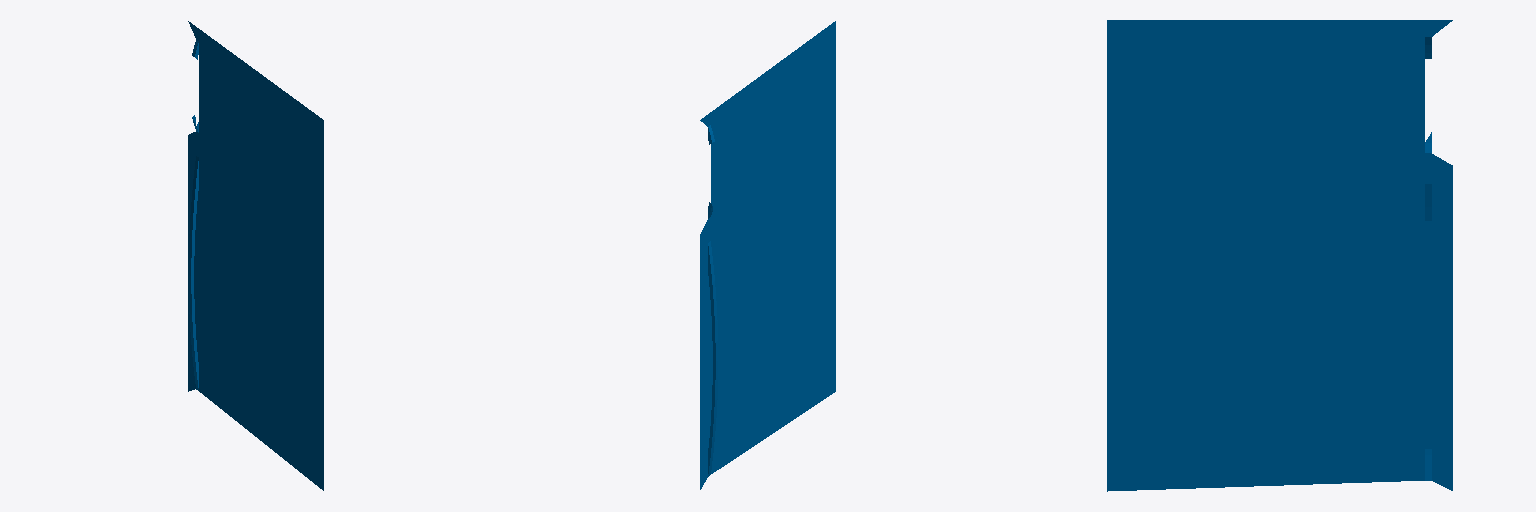
The robot description file, URDF, robot "partnet_dc5c91c8c01b1c8c506c648223cdabe9":
<?xml version="1.0" ?>
<robot name="partnet_dc5c91c8c01b1c8c506c648223cdabe9">
	<link name="base"/>
	<link name="link_0">
		<visual name="door_frame-13">
			<origin xyz="0.7225216712570703 -0.4353150000000001 -0.4223766322779752"/>
			<geometry>
				<mesh filename="textured_objs/original-12.obj"/>
			</geometry>
		</visual>
		<visual name="glass-14">
			<origin xyz="0.7225216712570703 -0.4353150000000001 -0.4223766322779752"/>
			<geometry>
				<mesh filename="textured_objs/original-7.obj"/>
			</geometry>
		</visual>
		<visual name="handle-15">
			<origin xyz="0.7225216712570703 -0.4353150000000001 -0.4223766322779752"/>
			<geometry>
				<mesh filename="textured_objs/original-9.obj"/>
			</geometry>
		</visual>
		<visual name="handle-15">
			<origin xyz="0.7225216712570703 -0.4353150000000001 -0.4223766322779752"/>
			<geometry>
				<mesh filename="textured_objs/original-11.obj"/>
			</geometry>
		</visual>
		<visual name="handle-15">
			<origin xyz="0.7225216712570703 -0.4353150000000001 -0.4223766322779752"/>
			<geometry>
				<mesh filename="textured_objs/original-10.obj"/>
			</geometry>
		</visual>
		<collision>
			<origin xyz="0.7225216712570703 -0.4353150000000001 -0.4223766322779752"/>
			<geometry>
				<mesh filename="textured_objs/original-12.obj"/>
			</geometry>
		</collision>
		<collision>
			<origin xyz="0.7225216712570703 -0.4353150000000001 -0.4223766322779752"/>
			<geometry>
				<mesh filename="textured_objs/original-7.obj"/>
			</geometry>
		</collision>
		<collision>
			<origin xyz="0.7225216712570703 -0.4353150000000001 -0.4223766322779752"/>
			<geometry>
				<mesh filename="textured_objs/original-9.obj"/>
			</geometry>
		</collision>
		<collision>
			<origin xyz="0.7225216712570703 -0.4353150000000001 -0.4223766322779752"/>
			<geometry>
				<mesh filename="textured_objs/original-11.obj"/>
			</geometry>
		</collision>
		<collision>
			<origin xyz="0.7225216712570703 -0.4353150000000001 -0.4223766322779752"/>
			<geometry>
				<mesh filename="textured_objs/original-10.obj"/>
			</geometry>
		</collision>
	</link>
	<joint name="joint_0" type="fixed">
		<origin xyz="-0.7225216712570703 0.4353150000000001 0.4223766322779752"/>
		<axis xyz="0 -1 0"/>
		<child link="link_0"/>
		<parent link="link_3"/>
		<limit lower="0.0" upper="1.5707963267948966"/>
	</joint>
	<link name="link_1">
		<visual name="control_button-11">
			<origin xyz="-0.62927375371293 0.11302417350872418 -0.5762653086208114"/>
			<geometry>
				<mesh filename="textured_objs/original-4.obj"/>
			</geometry>
		</visual>
		<collision>
			<origin xyz="-0.62927375371293 0.11302417350872418 -0.5762653086208114"/>
			<geometry>
				<mesh filename="textured_objs/original-4.obj"/>
			</geometry>
		</collision>
	</link>
	<joint name="joint_1" type="revolute">
		<limit lower="0" upper="3.14"></limit>
		<origin xyz="0.62927375371293 -0.11302417350872418 0.5762653086208114"/>
		<axis xyz="0 0 1"/>
		<child link="link_1"/>
		<parent link="link_3"/>
	</joint>
	<link name="link_2">
		<visual name="control_button-12">
			<origin xyz="-0.6277137567347879 -0.1563726761075232 -0.573779996412259"/>
			<geometry>
				<mesh filename="textured_objs/original-3.obj"/>
			</geometry>
		</visual>
		<collision>
			<origin xyz="-0.6277137567347879 -0.1563726761075232 -0.573779996412259"/>
			<geometry>
				<mesh filename="textured_objs/original-3.obj"/>
			</geometry>
		</collision>
	</link>
	<joint name="joint_2" type="fixed">
		<origin xyz="0.6277137567347879 0.1563726761075232 0.573779996412259"/>
		<axis xyz="0 0 1"/>
		<child link="link_2"/>
		<parent link="link_3"/>
	</joint>
	<link name="link_3">
		<visual name="frame-8">
			<origin xyz="0 0 0"/>
			<geometry>
				<mesh filename="textured_objs/original-5.obj"/>
			</geometry>
		</visual>
		<visual name="frame-8">
			<origin xyz="0 0 0"/>
			<geometry>
				<mesh filename="textured_objs/new-4.obj"/>
			</geometry>
		</visual>
		<visual name="foot-18">
			<origin xyz="0 0 0"/>
			<geometry>
				<mesh filename="textured_objs/new-3.obj"/>
			</geometry>
		</visual>
		<visual name="foot-19">
			<origin xyz="0 0 0"/>
			<geometry>
				<mesh filename="textured_objs/new-2.obj"/>
			</geometry>
		</visual>
		<visual name="foot-20">
			<origin xyz="0 0 0"/>
			<geometry>
				<mesh filename="textured_objs/new-1.obj"/>
			</geometry>
		</visual>
		<visual name="foot-21">
			<origin xyz="0 0 0"/>
			<geometry>
				<mesh filename="textured_objs/new-0.obj"/>
			</geometry>
		</visual>
		<collision>
			<origin xyz="0 0 0"/>
			<geometry>
				<mesh filename="textured_objs/original-5.obj"/>
			</geometry>
		</collision>
		<collision>
			<origin xyz="0 0 0"/>
			<geometry>
				<mesh filename="textured_objs/new-4.obj"/>
			</geometry>
		</collision>
		<collision>
			<origin xyz="0 0 0"/>
			<geometry>
				<mesh filename="textured_objs/new-3.obj"/>
			</geometry>
		</collision>
		<collision>
			<origin xyz="0 0 0"/>
			<geometry>
				<mesh filename="textured_objs/new-2.obj"/>
			</geometry>
		</collision>
		<collision>
			<origin xyz="0 0 0"/>
			<geometry>
				<mesh filename="textured_objs/new-1.obj"/>
			</geometry>
		</collision>
		<collision>
			<origin xyz="0 0 0"/>
			<geometry>
				<mesh filename="textured_objs/new-0.obj"/>
			</geometry>
		</collision>
	</link>
	<joint name="joint_3" type="fixed">
		<origin rpy="1.570796326794897 0 -1.570796326794897" xyz="0 0 0"/>
		<child link="link_3"/>
		<parent link="base"/>
	</joint>
</robot>

--- What the picture shows (computed from the rendered views, not written in the file) ---
The picture shows the robot from 3 angles, left to right: view 1: azimuth 30°, elevation 25°; view 2: azimuth 150°, elevation 25°; view 3: azimuth 270°, elevation 25°; orthographic projection.
Model partnet_dc5c91c8c01b1c8c506c648223cdabe9 with 5 links and 4 joints (1 revolute, 3 fixed), rooted at base, posed every joint at zero.
Visible links, largest first — view 1: link_3; view 2: link_3; view 3: link_3.
Link boxes in pixels (x1,y1,x2,y2): link_3: (188,21,323,490); link_3: (700,21,835,489); link_3: (1107,20,1452,491).
Bounding box of the posed robot: 0.0331 × 1.04 × 1.56 m (x, y, z).
Meshes: 13 distinct files referenced, 3 mesh visuals loaded (3 OBJ); not drawn: 10 (reference not matched to a file when rendering).